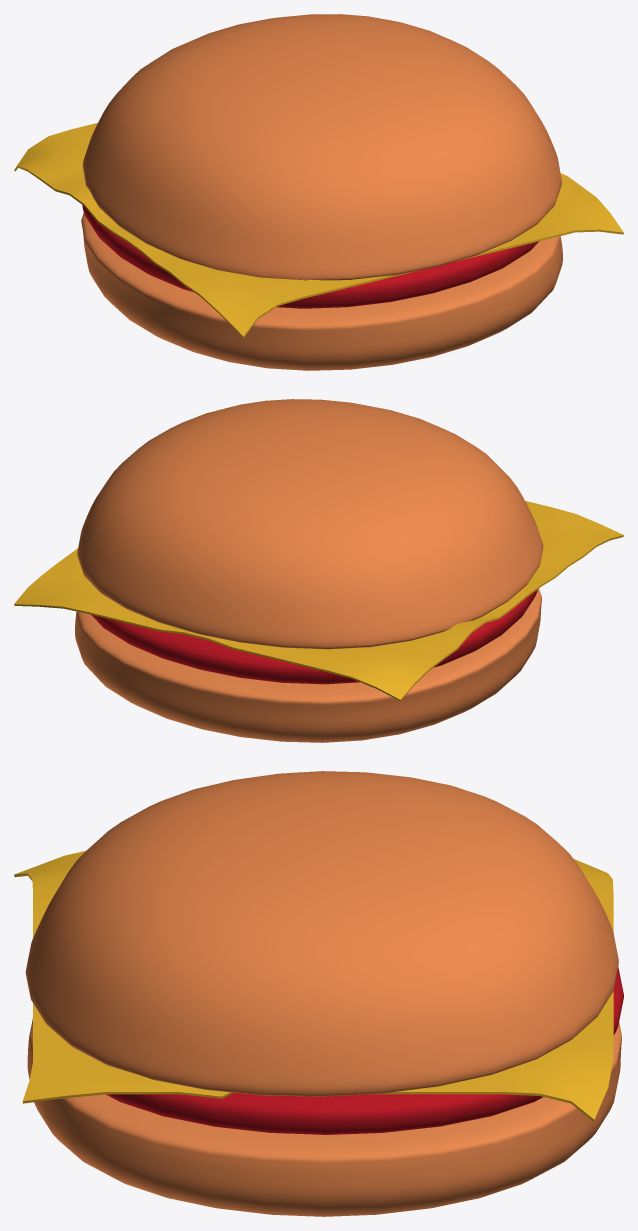
The model's file is hamburger.glb.
3 views of the same model, one above another, from view 1: azimuth 30°, elevation 25°; view 2: azimuth 150°, elevation 25°; view 3: azimuth 270°, elevation 25° (orthographic). The views are drawn at different scales.
Parts seen in each view (by area): view 1: Cube.002, Cube, Plane, Cube.001; view 2: Cube.002, Cube, Plane, Cube.001; view 3: Cube.002, Cube, Plane, Cube.001.
Part boxes in pixels (<box>): Cube.002: <box>82,14,561,280</box>; Cube: <box>81,213,562,370</box>; Plane: <box>14,123,623,337</box>; Cube.001: <box>82,205,538,308</box>; Cube.002: <box>77,399,543,649</box>; Cube: <box>75,589,541,742</box>; Plane: <box>14,501,623,700</box>; Cube.001: <box>91,589,537,684</box>; Cube.002: <box>25,771,618,1096</box>; Cube: <box>27,1019,621,1216</box>; Plane: <box>14,851,613,1121</box>; Cube.001: <box>106,967,623,1134</box>.
Bounding box in the file's own units: 4.31 × 2.4 × 4.35.
